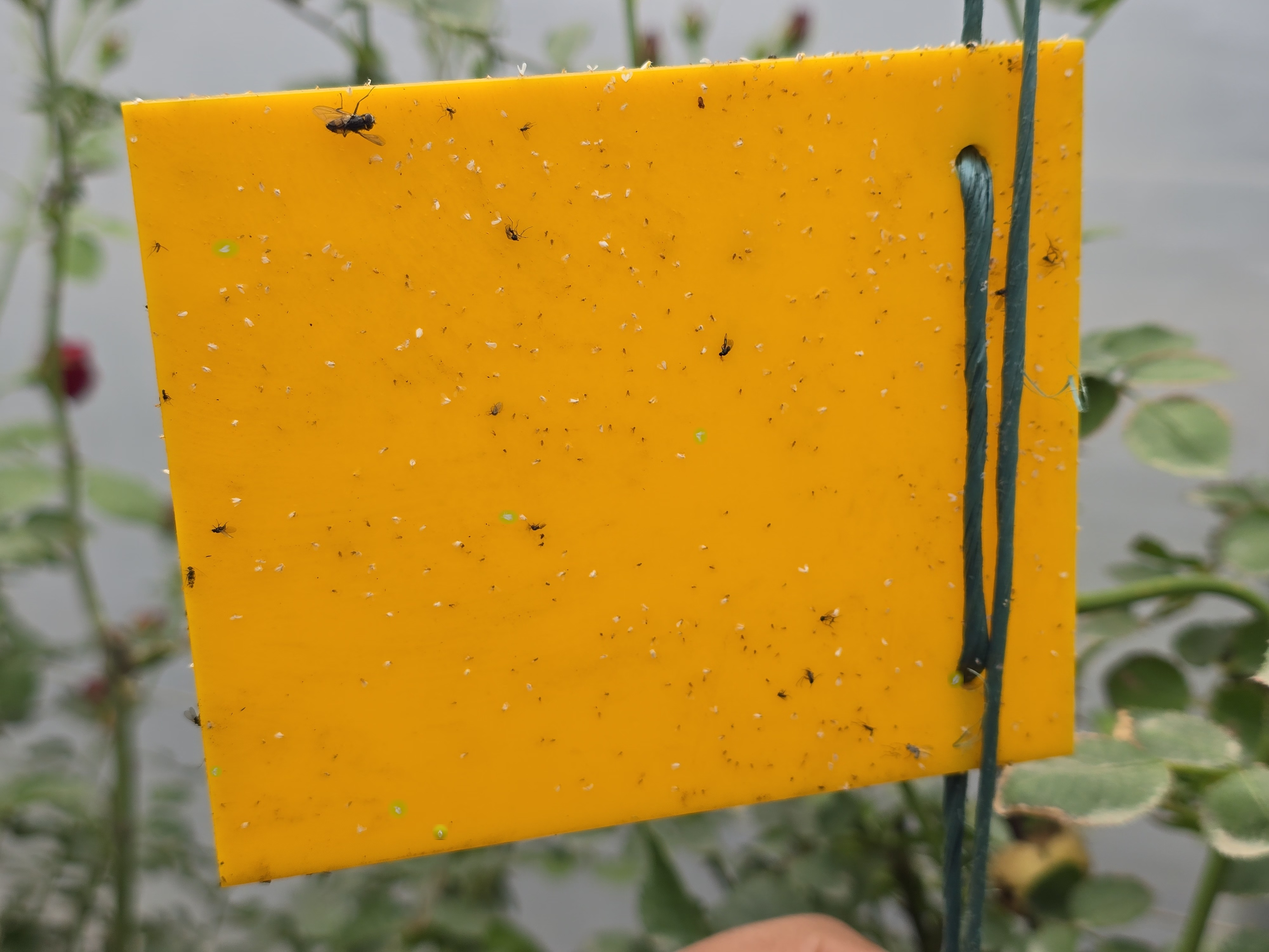WF: (215, 241, 235, 255), (515, 62, 529, 80), (390, 802, 405, 816), (484, 340, 501, 352), (656, 359, 670, 373), (490, 212, 503, 227), (944, 493, 961, 504), (229, 613, 246, 623), (499, 702, 512, 715), (340, 261, 354, 273), (867, 209, 881, 221), (236, 281, 247, 296), (370, 154, 385, 165), (542, 161, 553, 176), (354, 824, 369, 835), (639, 61, 655, 71), (794, 53, 810, 63), (321, 243, 333, 256), (207, 342, 220, 354), (274, 563, 287, 575), (442, 394, 454, 407), (587, 569, 600, 581), (362, 590, 376, 601), (1054, 463, 1068, 474), (698, 58, 715, 67), (415, 327, 425, 342), (244, 317, 256, 329), (798, 565, 811, 576), (1033, 453, 1046, 464), (1064, 68, 1075, 81), (526, 682, 539, 693), (230, 498, 244, 508), (620, 73, 634, 83), (815, 405, 829, 415), (501, 512, 515, 522), (261, 255, 273, 266), (391, 515, 403, 526), (432, 200, 443, 212), (950, 673, 961, 685), (598, 240, 611, 250), (382, 659, 395, 669), (176, 310, 190, 319), (585, 65, 599, 74), (870, 149, 879, 163), (1058, 34, 1072, 43), (1029, 469, 1040, 480), (648, 648, 659, 659), (287, 511, 299, 521), (422, 141, 434, 151), (450, 153, 462, 163), (622, 188, 632, 200), (670, 761, 682, 771), (866, 268, 878, 278), (834, 647, 844, 659), (851, 351, 866, 359), (738, 56, 753, 64), (695, 430, 705, 442), (273, 732, 286, 741), (325, 361, 338, 370), (467, 159, 476, 172), (600, 194, 614, 202), (824, 51, 838, 59), (590, 189, 601, 199), (883, 578, 894, 588), (880, 638, 890, 649), (879, 389, 890, 399), (435, 826, 445, 837), (258, 235, 270, 244), (202, 366, 214, 375), (580, 138, 592, 147), (733, 141, 745, 150), (129, 136, 139, 146), (402, 339, 412, 349), (626, 626, 636, 636), (539, 395, 549, 405), (500, 109, 509, 120), (864, 62, 873, 73), (700, 83, 709, 94), (676, 453, 687, 462), (258, 181, 266, 193), (431, 601, 443, 609), (134, 98, 146, 106), (879, 56, 892, 63), (518, 513, 528, 522), (914, 659, 924, 668), (463, 668, 472, 678), (162, 468, 172, 477), (613, 615, 622, 625), (218, 288, 229, 296), (229, 419, 240, 427), (452, 540, 463, 548), (736, 623, 747, 631), (825, 113, 832, 125), (274, 188, 283, 197), (463, 213, 472, 222), (620, 103, 629, 112), (531, 150, 540, 159), (806, 146, 815, 155), (873, 139, 881, 149), (720, 598, 730, 606), (833, 608, 841, 618), (187, 662, 197, 670), (254, 566, 265, 573), (384, 612, 395, 619), (393, 346, 404, 353), (899, 233, 906, 244), (616, 67, 627, 74), (237, 186, 246, 194), (346, 87, 354, 96), (567, 399, 579, 405), (935, 326, 944, 334), (211, 767, 220, 775), (418, 525, 428, 532), (158, 435, 169, 441), (610, 77, 618, 85), (474, 168, 483, 175), (486, 74, 495, 81), (933, 80, 939, 90), (755, 712, 763, 719), (950, 40, 956, 49)
